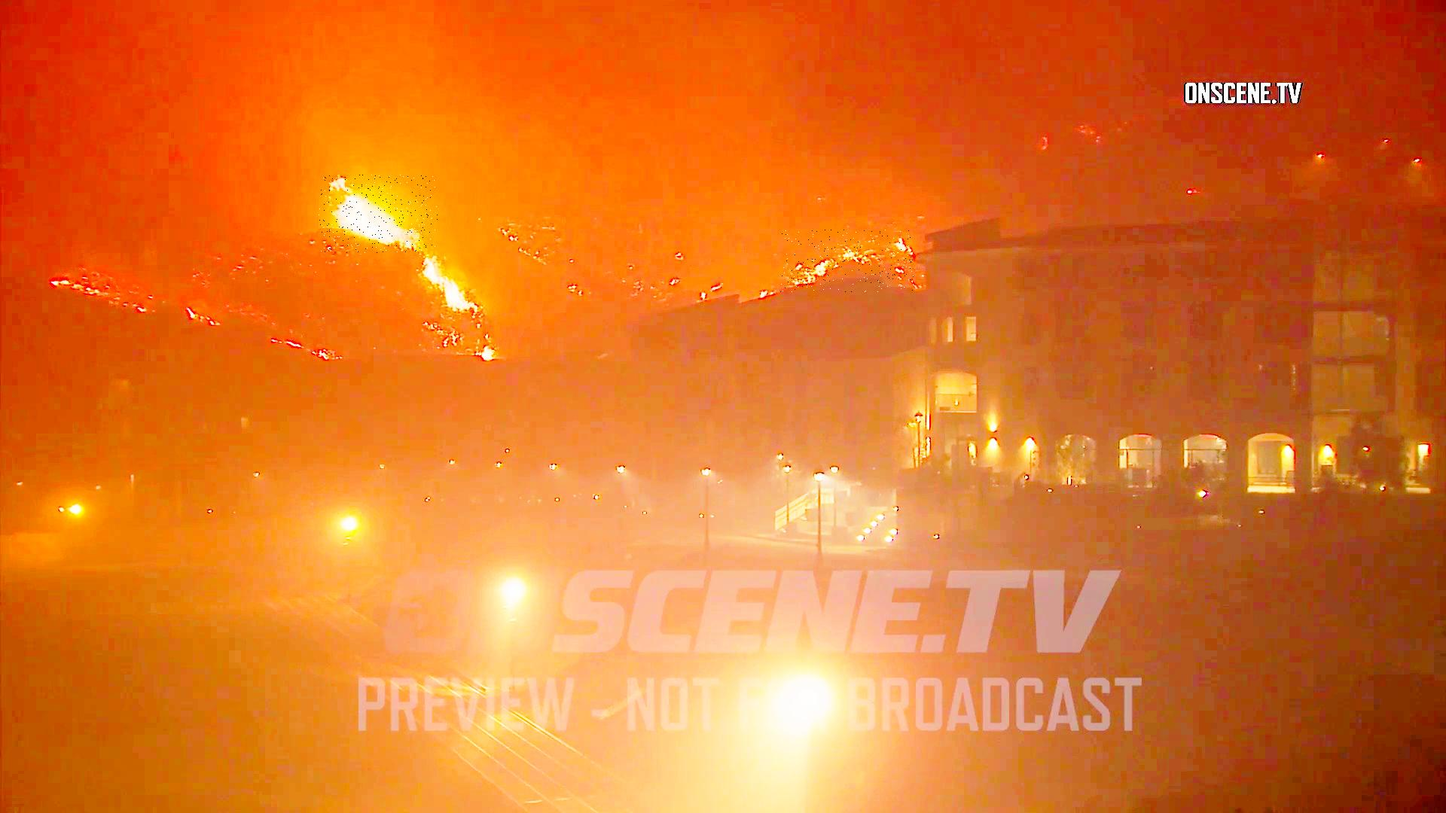fire: (319, 175, 438, 254), (780, 230, 915, 292)
